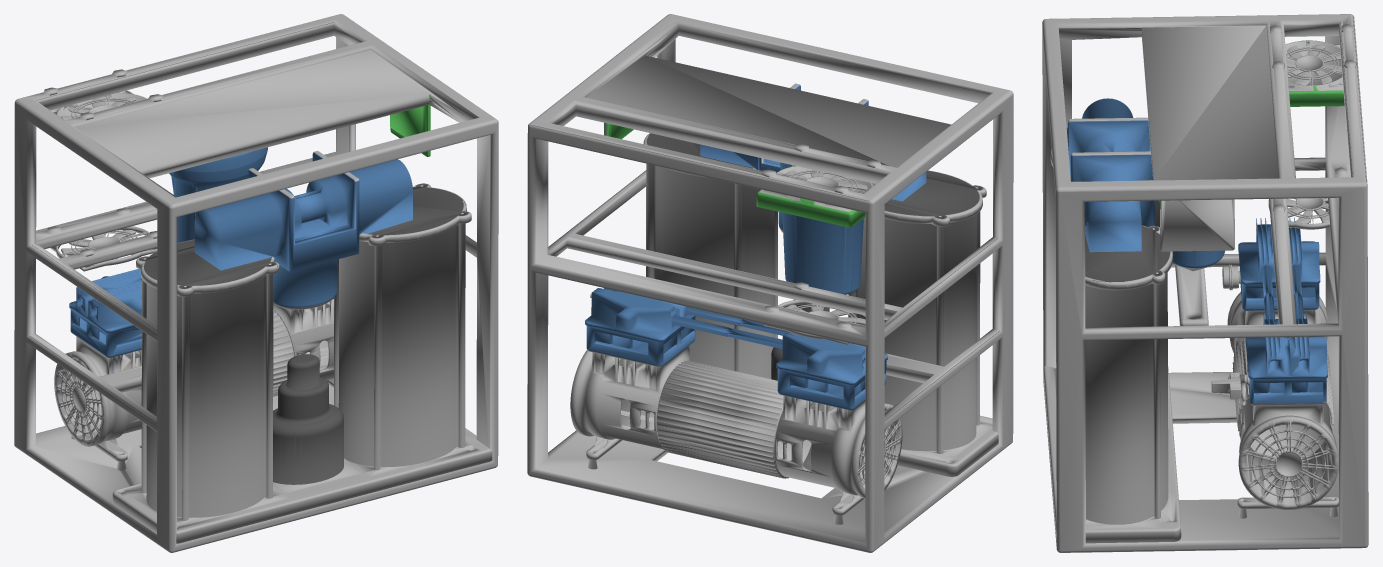
File: oxygengenerator.glb
3 views of the same model, side by side, from view 1: azimuth 30°, elevation 25°; view 2: azimuth 150°, elevation 25°; view 3: azimuth 270°, elevation 25° (orthographic). The views are drawn at different scales.
Visible parts, largest first — view 1: Final; view 2: Final; view 3: Final.
Part boxes in pixels (box(x1,y1,x2,y2)): Final: box(14, 14, 498, 552); Final: box(527, 14, 1013, 552); Final: box(1042, 14, 1368, 552).
Bounding box in the file's own units: 5.33 × 5.2 × 4.17.
